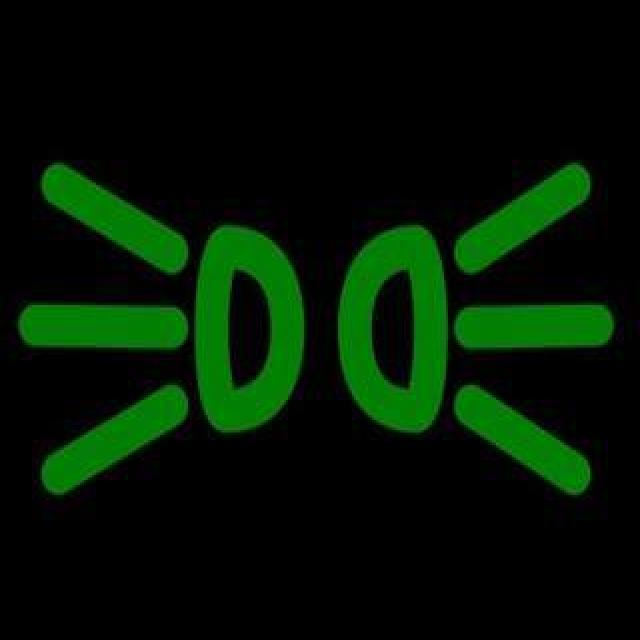kontrolka: (17, 113, 631, 522)
